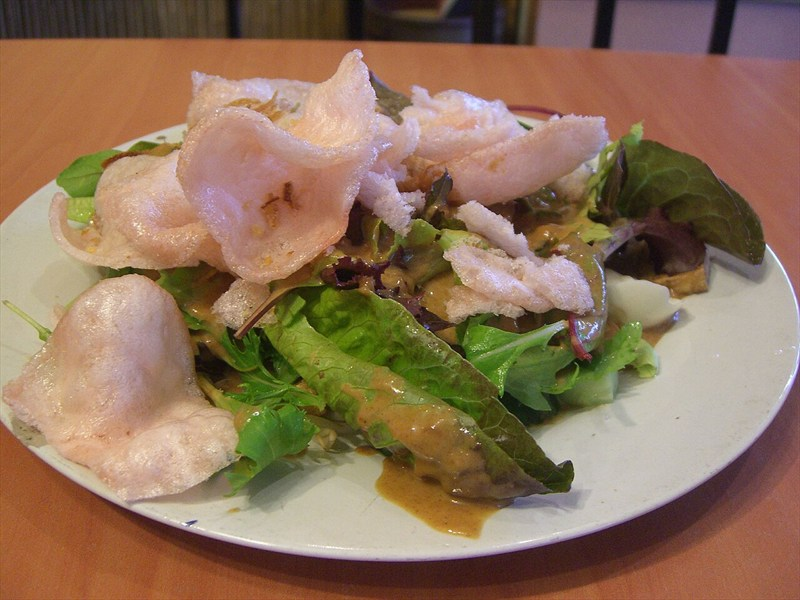Gado-Gado: (92, 79, 688, 571)
